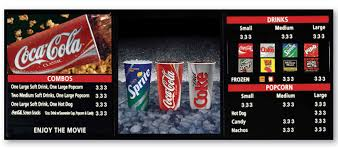coke: (5, 14, 111, 76)
